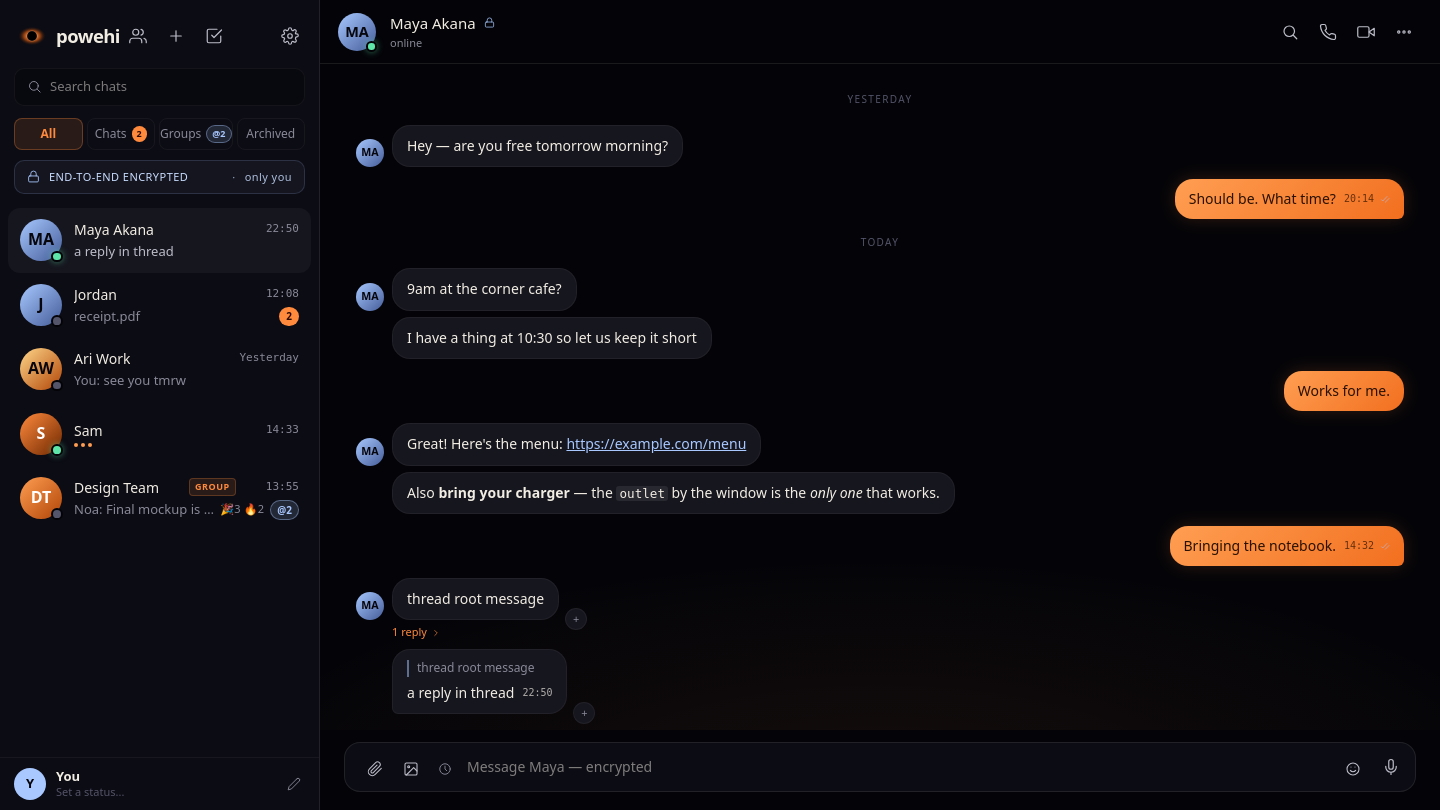
Test: ChatLayout — thread panel emoji reactions › reaction chip shows correct sender count
(page scrolled)
Click the button with test id "thread-replies-btn".
click(398, 633)  # box [356,622,441,643]
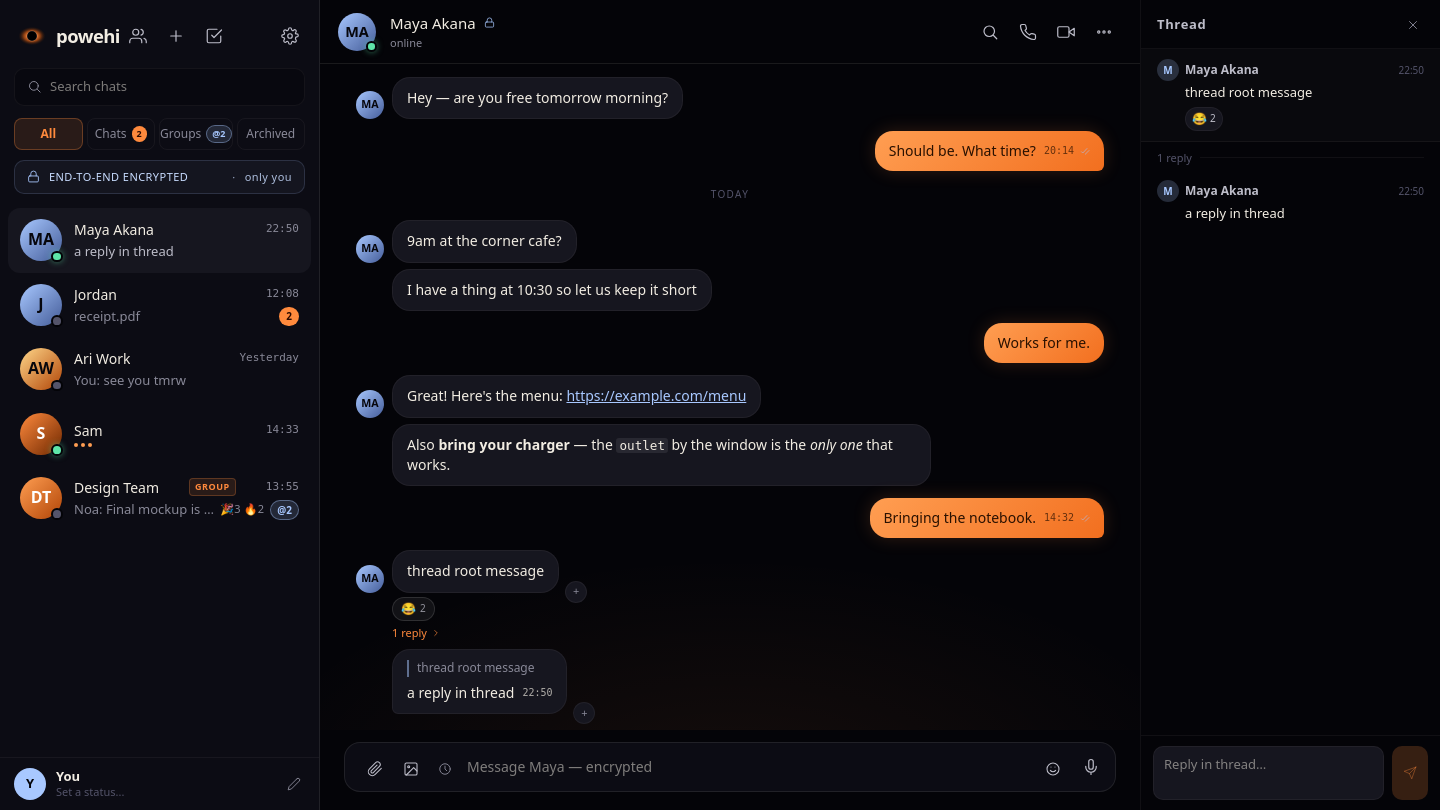
Check: the button with test id "thread-reaction-chip-😂" shows "2", box [1185,106,1223,130]
